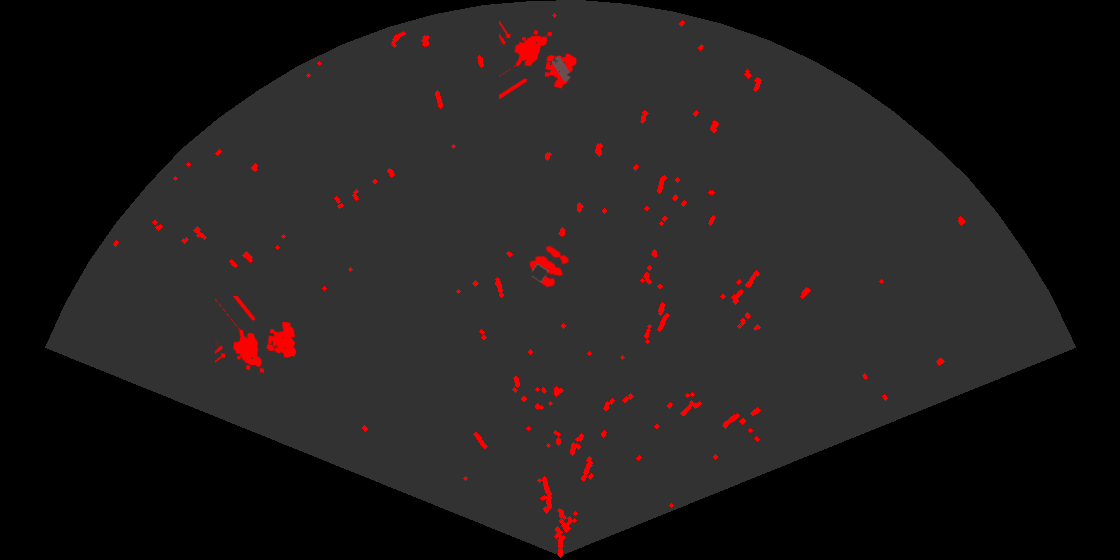ball: (527, 244, 571, 289)
cage: (215, 296, 298, 375), (499, 19, 578, 101)
